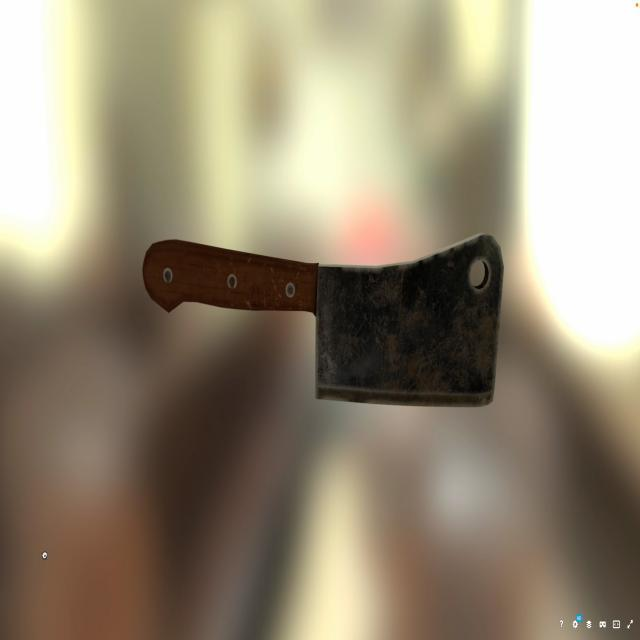cleaver: (138, 228, 516, 406)
